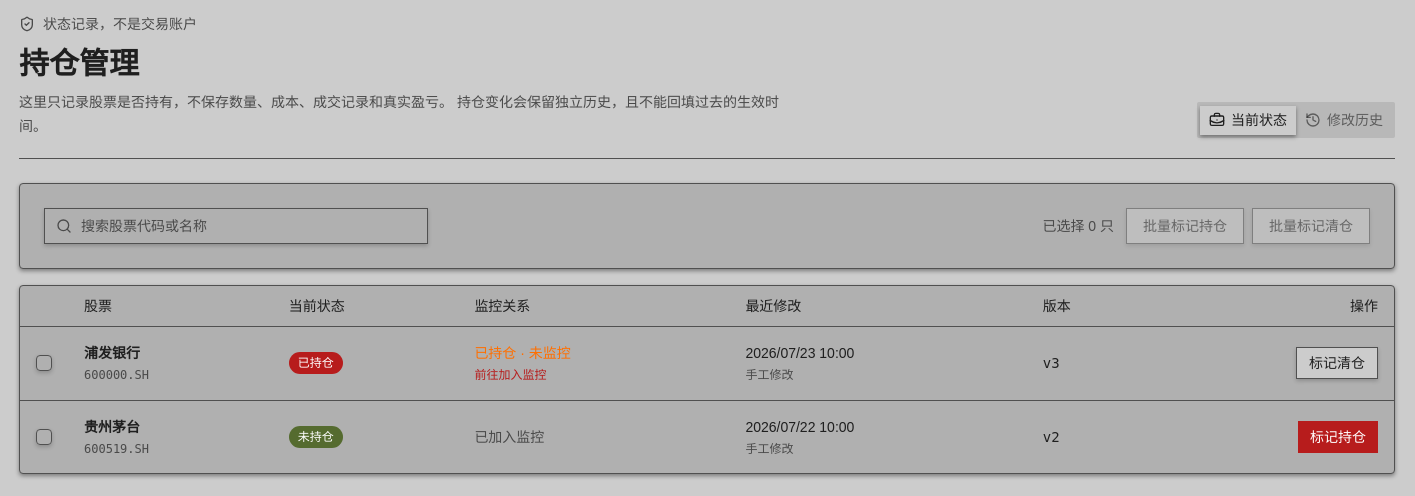
持仓管理页面 › 批量按钮只在所有选中股票均获后端允许时启用
Expected: the text "浦发银行" is shown, [84,345,140,361]
Expected: the button "批量标记清仓" is disabled, [1252,208,1370,244]
What coordinates should you click on to do the following:
click the checkbox named "选择 600000.SH"
I would click on:
 (44, 363)
Its box is [36,355,52,371].
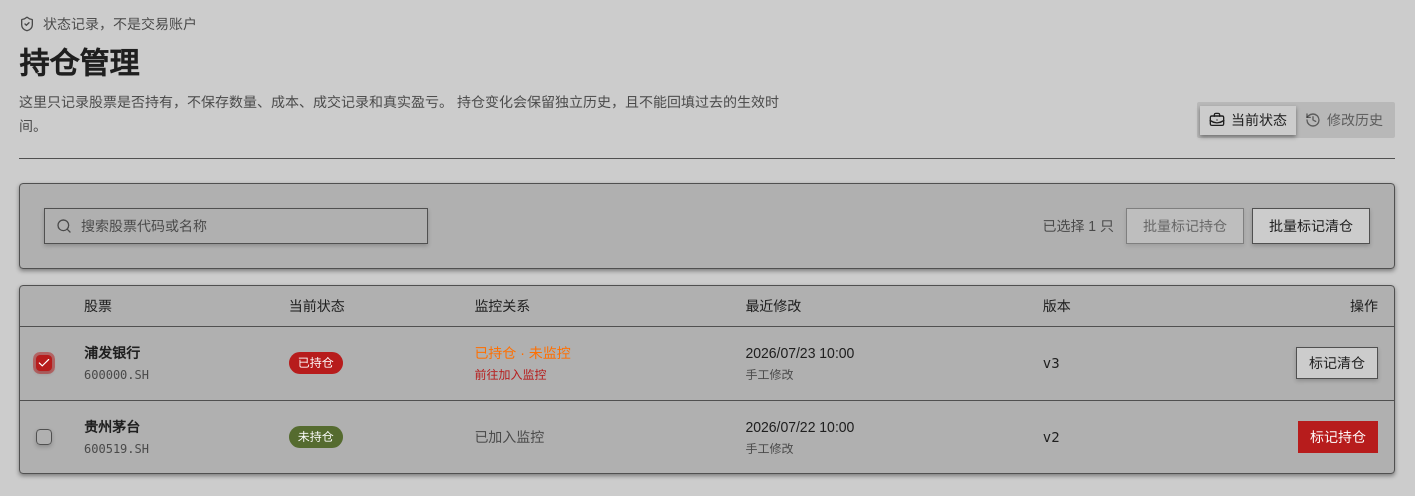
Now the button "批量标记清仓" is enabled, box [1252,208,1370,244]
What coordinates should you click on to do the following:
click the checkbox named "选择 600519.SH"
I would click on:
 (44, 436)
Its box is [36,428,52,444].
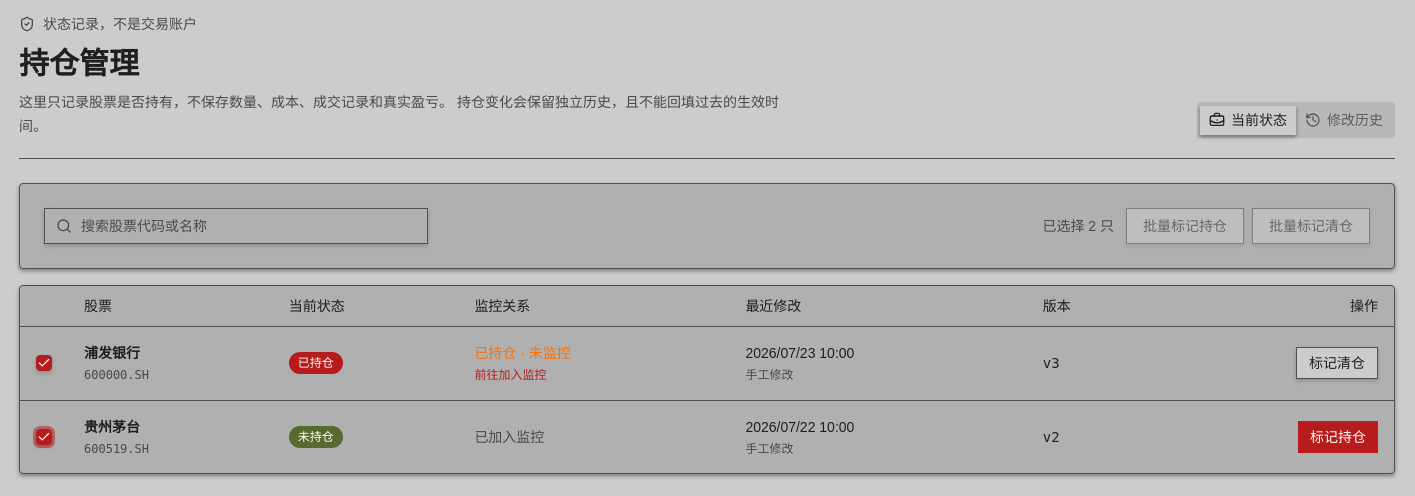
Now the button "批量标记清仓" is disabled, box [1252,208,1370,244]
